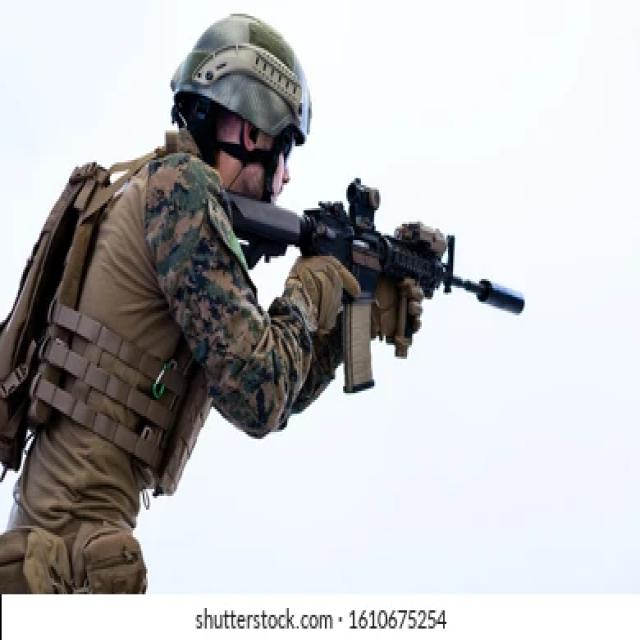soldier: (1, 1, 557, 595)
